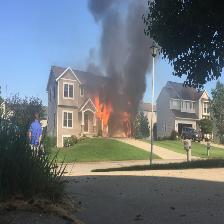fire: (94, 90, 111, 126)
smoke: (109, 6, 148, 86), (114, 89, 139, 117)
